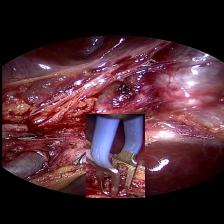Bipolar: (85, 114, 144, 198)
